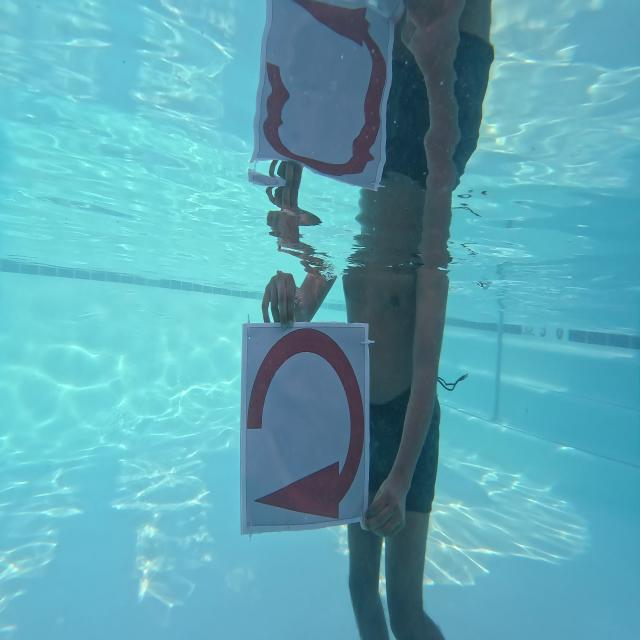red_side: (233, 316, 374, 535)
